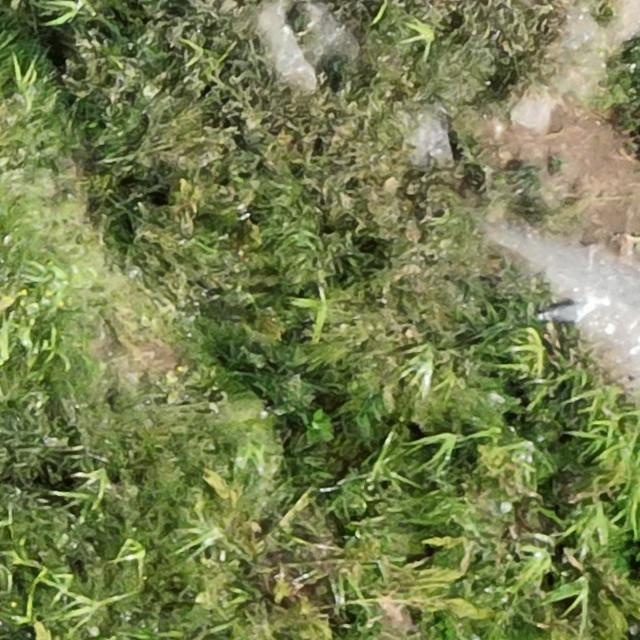umineko: (548, 303, 588, 322)
